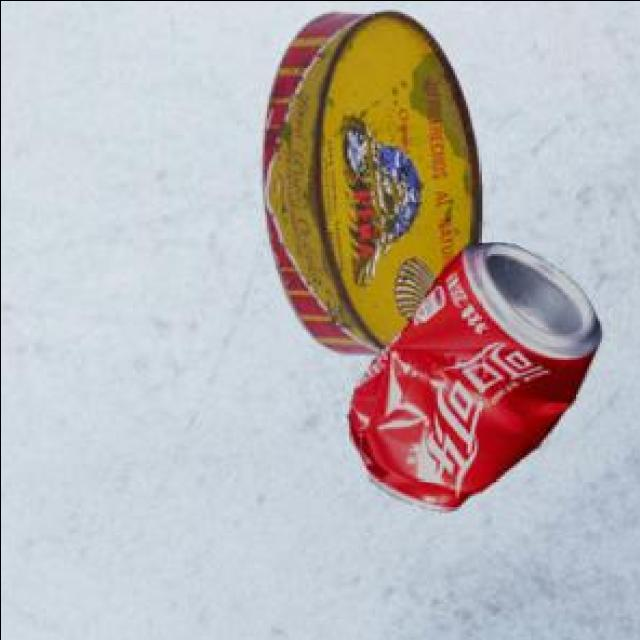logam: (258, 8, 477, 351), (343, 239, 596, 507)
